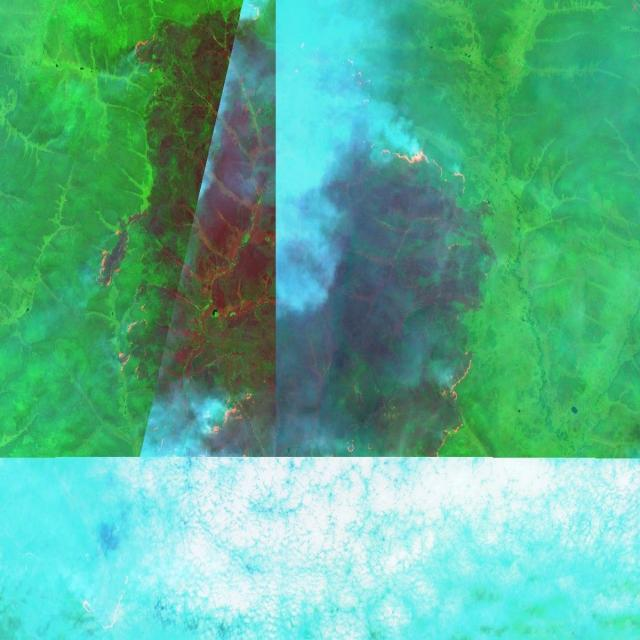fire: (364, 137, 485, 214), (416, 334, 480, 474), (94, 214, 148, 378), (184, 382, 262, 485), (123, 22, 174, 101)
